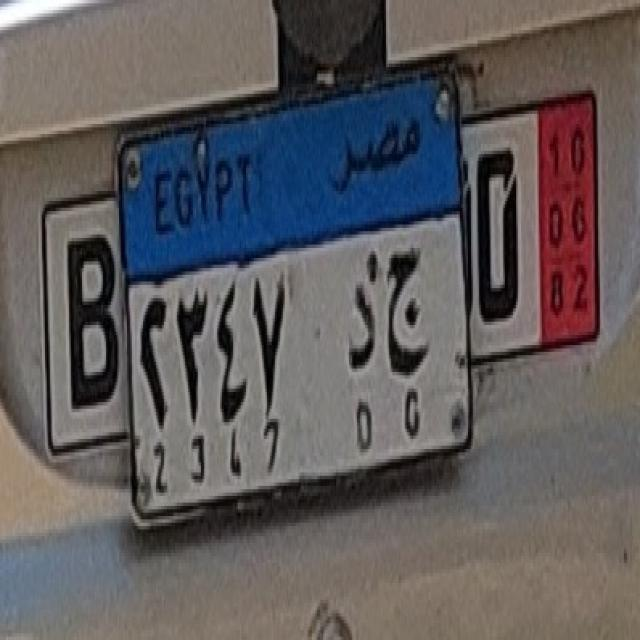2: (128, 288, 177, 436)
3: (167, 284, 218, 428)
4: (211, 282, 252, 424)
7: (242, 270, 299, 414)
daal: (338, 272, 381, 384)
geem: (381, 247, 438, 380)
